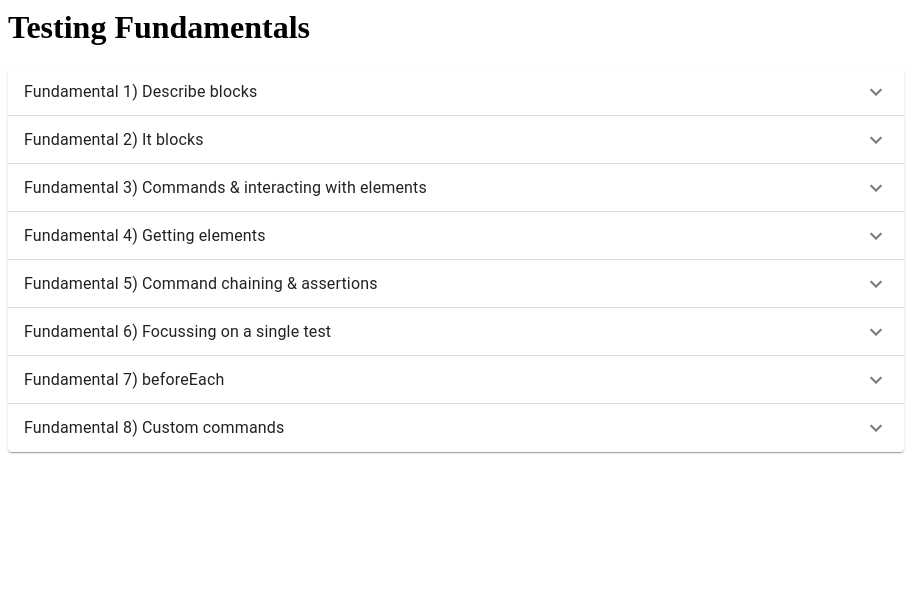
Test: Fundamentals test › Accordion Item 5 contains correct text
Click the element with test id "accordion-item-5". click: x=456, y=284
box: [8,260,904,308]
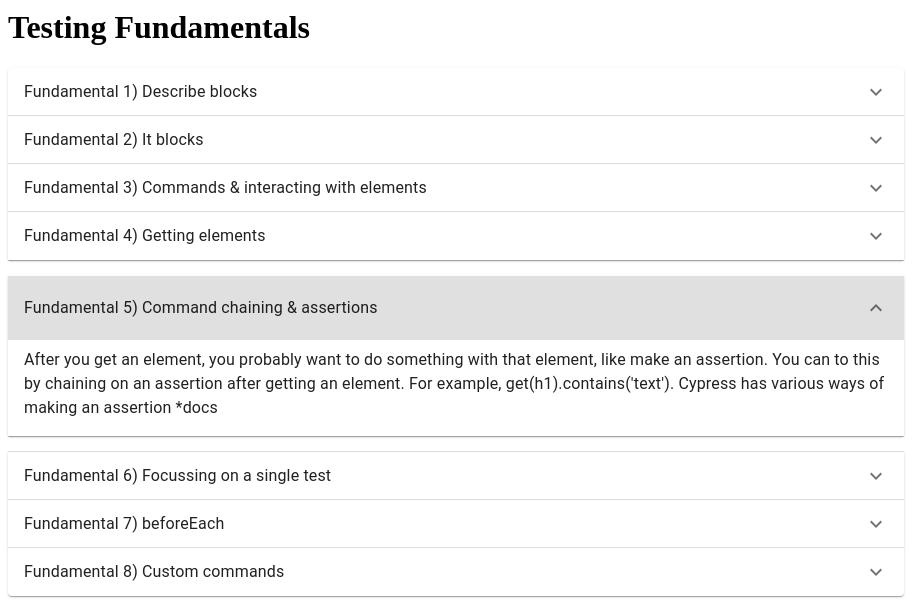
Expected: the text "After you get an element, you probably want to do something with that" is shown, [24,348,888,420]
